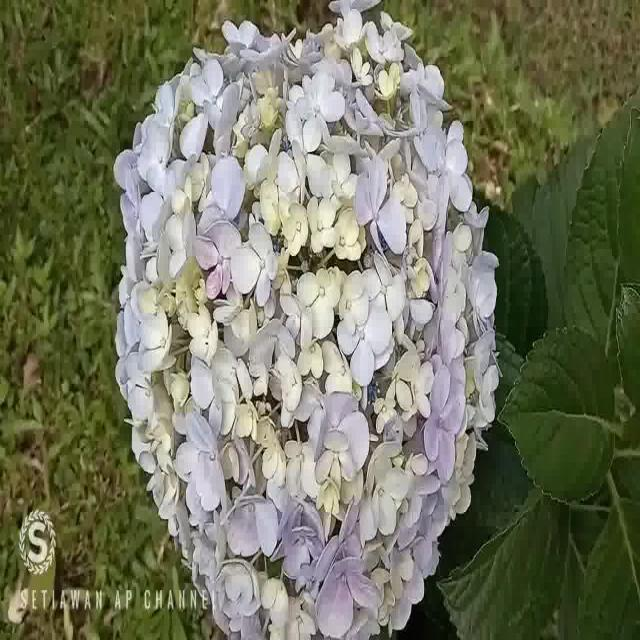Flower: (108, 2, 501, 640)
